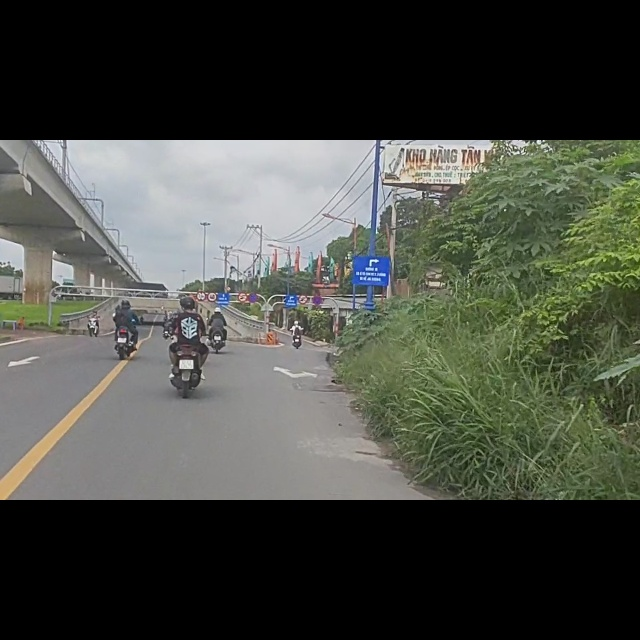bien_nguy_hiem: (207, 269, 217, 289), (237, 270, 248, 288), (248, 271, 259, 289), (297, 274, 308, 292), (196, 268, 206, 287), (313, 275, 323, 294)
